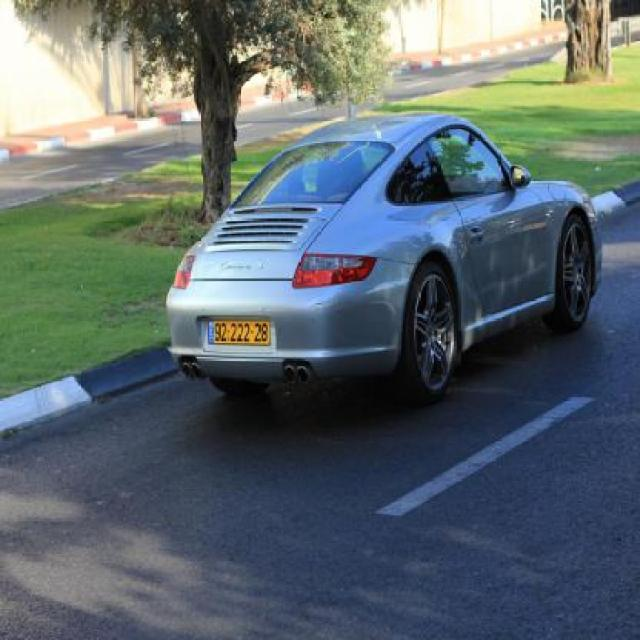License-Plates: (202, 317, 272, 347)
